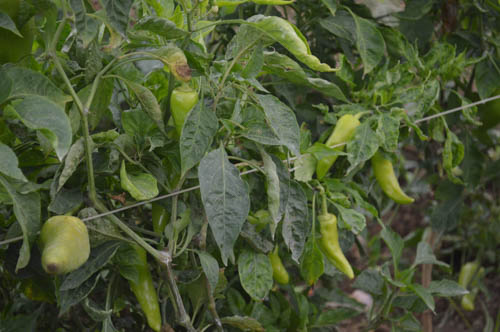ChiliPepper: (37, 217, 92, 278), (124, 244, 161, 328), (366, 149, 417, 205), (147, 164, 182, 240), (318, 214, 356, 280), (165, 86, 200, 133), (323, 113, 360, 156), (264, 249, 288, 286)
